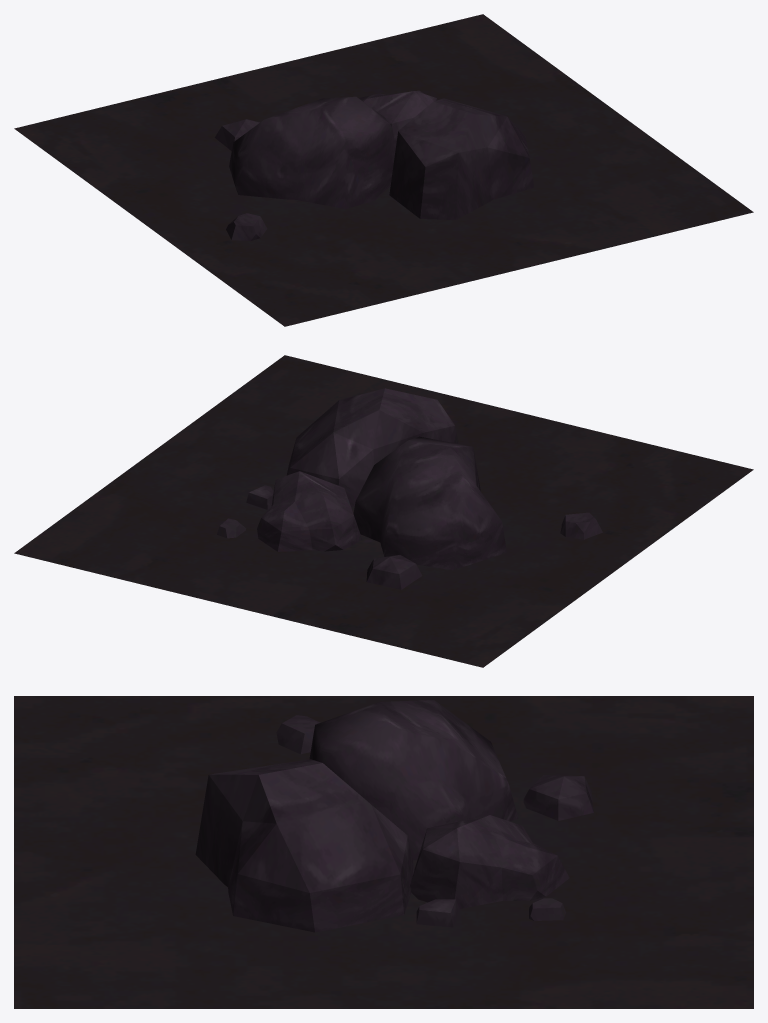
Rendered from cave_rubble_05.fbx.
The picture shows the model from 3 angles, top to bottom: view 1: azimuth 30°, elevation 25°; view 2: azimuth 150°, elevation 25°; view 3: azimuth 270°, elevation 25°; orthographic projection. The views are drawn at different scales.
Visible parts, largest first — view 1: cave_rubble_05-0; view 2: cave_rubble_05-0; view 3: cave_rubble_05-0.
Boxes of the visible parts, box(x1,y1,x2,y2) form: cave_rubble_05-0: box(14, 14, 753, 326); cave_rubble_05-0: box(14, 355, 753, 667); cave_rubble_05-0: box(14, 696, 753, 1008).
Size of the model in its own units: 4 by 0.6912 by 4.
